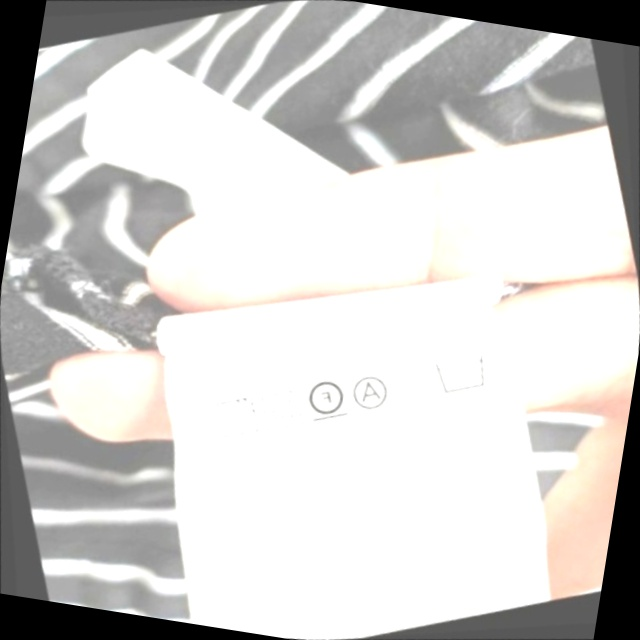95C: (423, 340, 499, 407)
bleach: (387, 353, 442, 413)
drip_dry: (249, 377, 314, 441)
drip_dry_in_shade: (201, 385, 269, 452)
dry_clean: (343, 364, 400, 420)
dry_clean_petrol_only: (295, 365, 357, 431)
